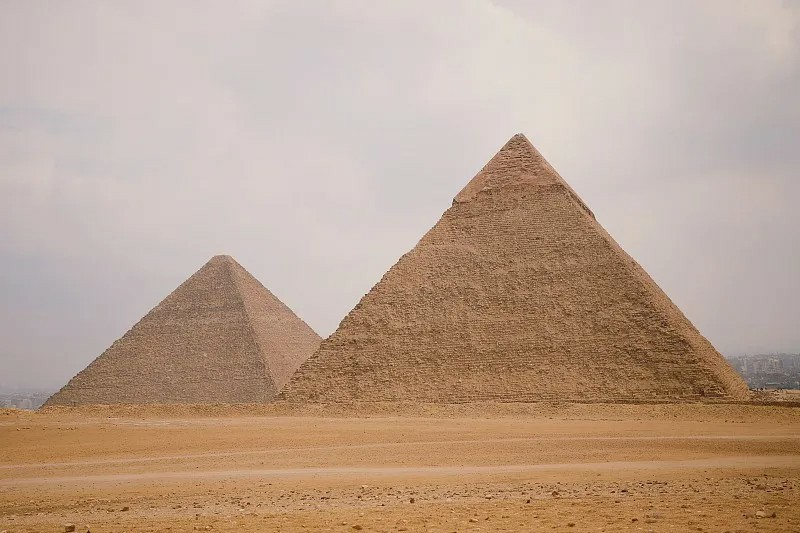Pyramid: (274, 134, 754, 403), (39, 256, 324, 403)
